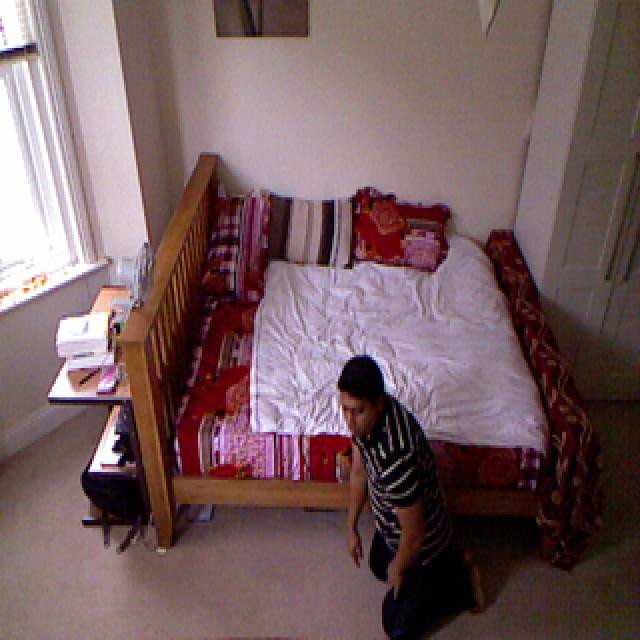crawling: (336, 354, 465, 640)
